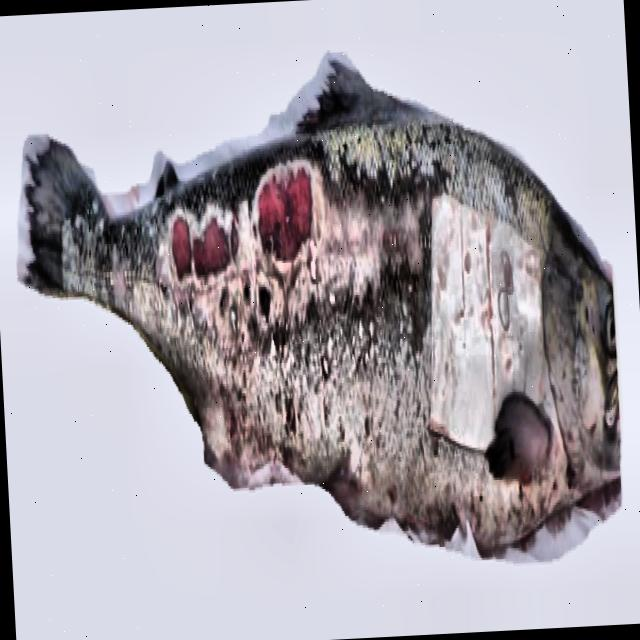mild_red: (46, 60, 547, 545)
wound: (257, 170, 311, 260), (173, 214, 239, 276)
